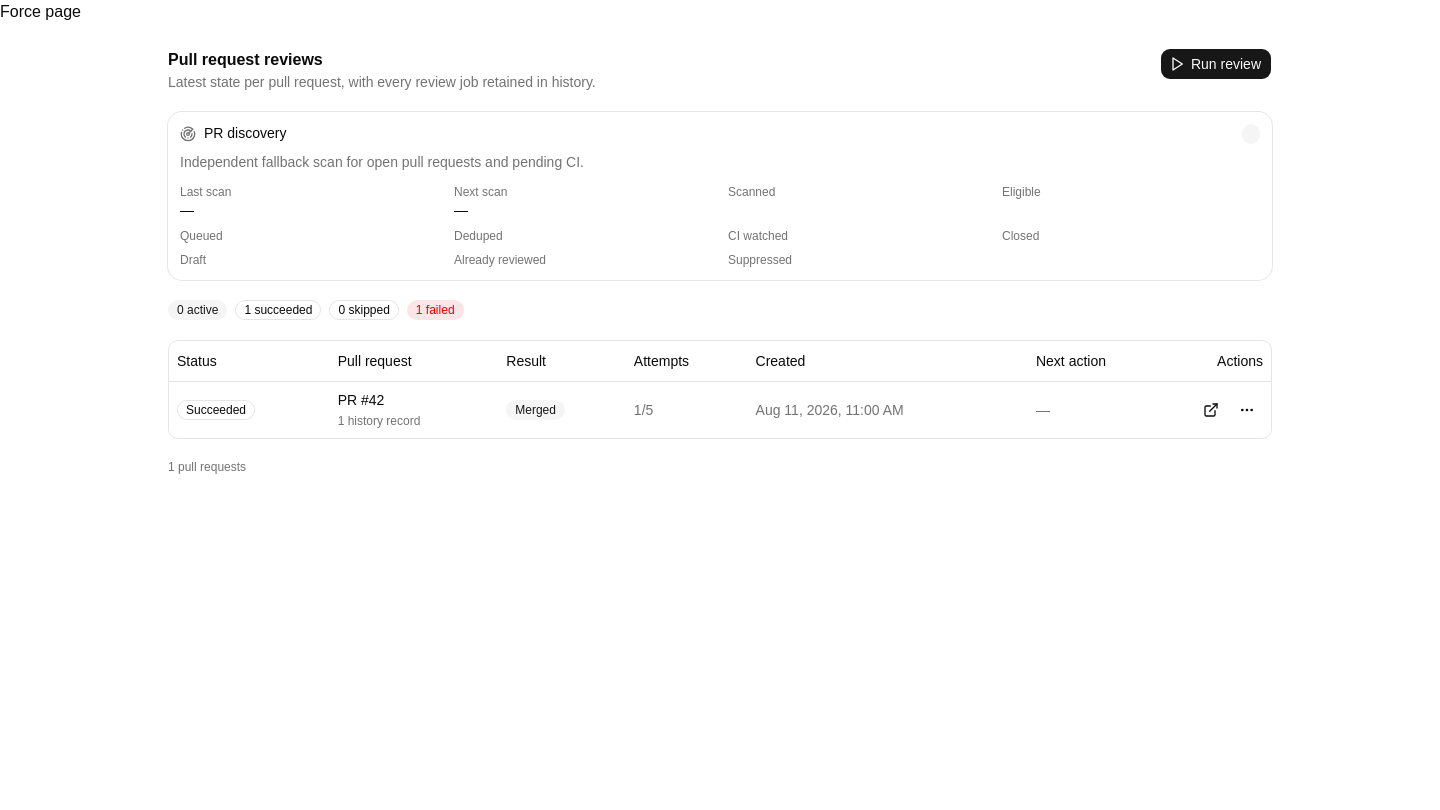
Test: pull request review pagination › shows merged as the aggregate result and removes re-review actions
The width and height of the screenshot is (1440, 810).
What coordinates should you click on to do the following:
click the button named "Actions for PR #42"
I would click on:
 (1247, 410)
Its box is [1231,394,1263,426].
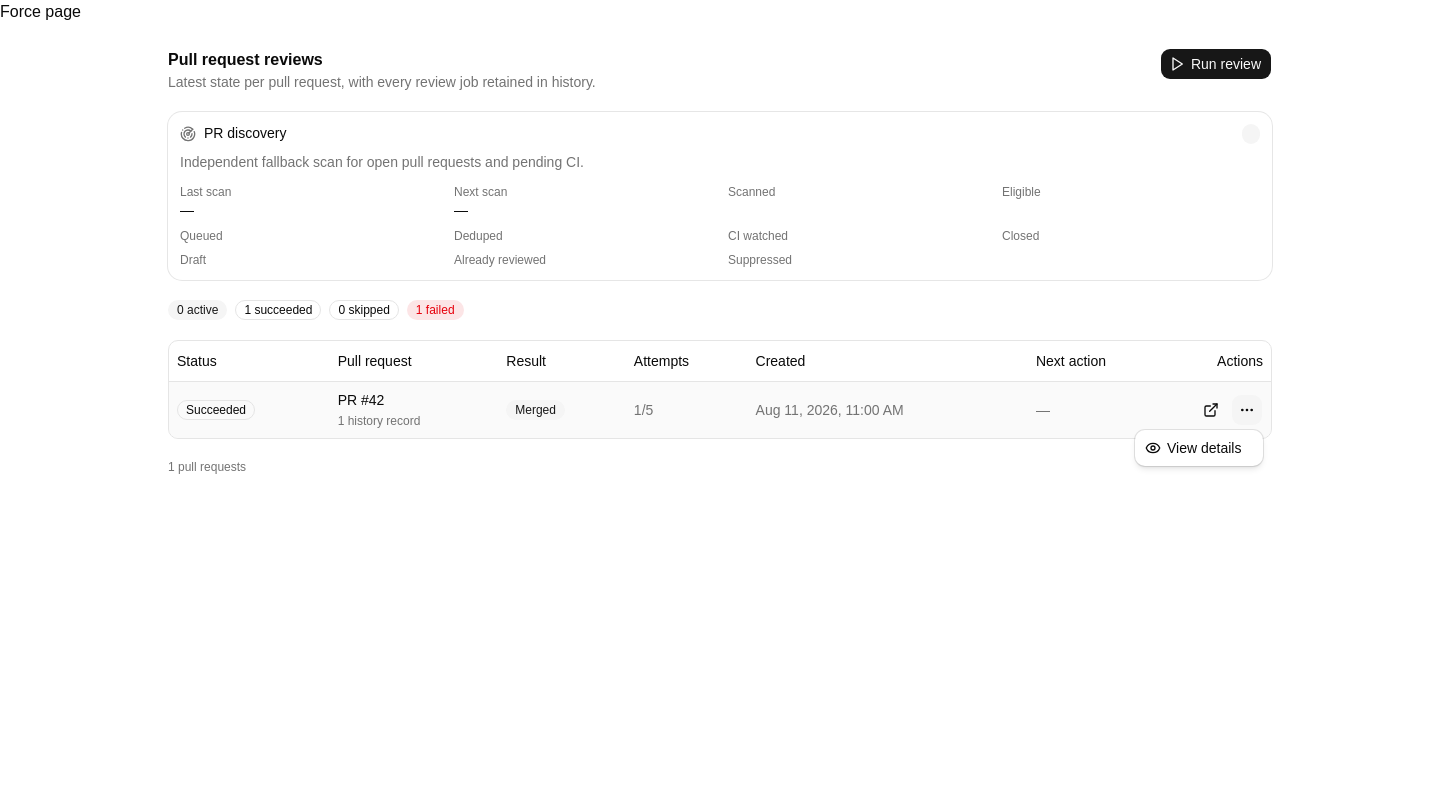
What coordinates should you click on to do the following:
click the menu item "View details"
I would click on:
 (1193, 448)
Its box is [1145,440,1242,456].
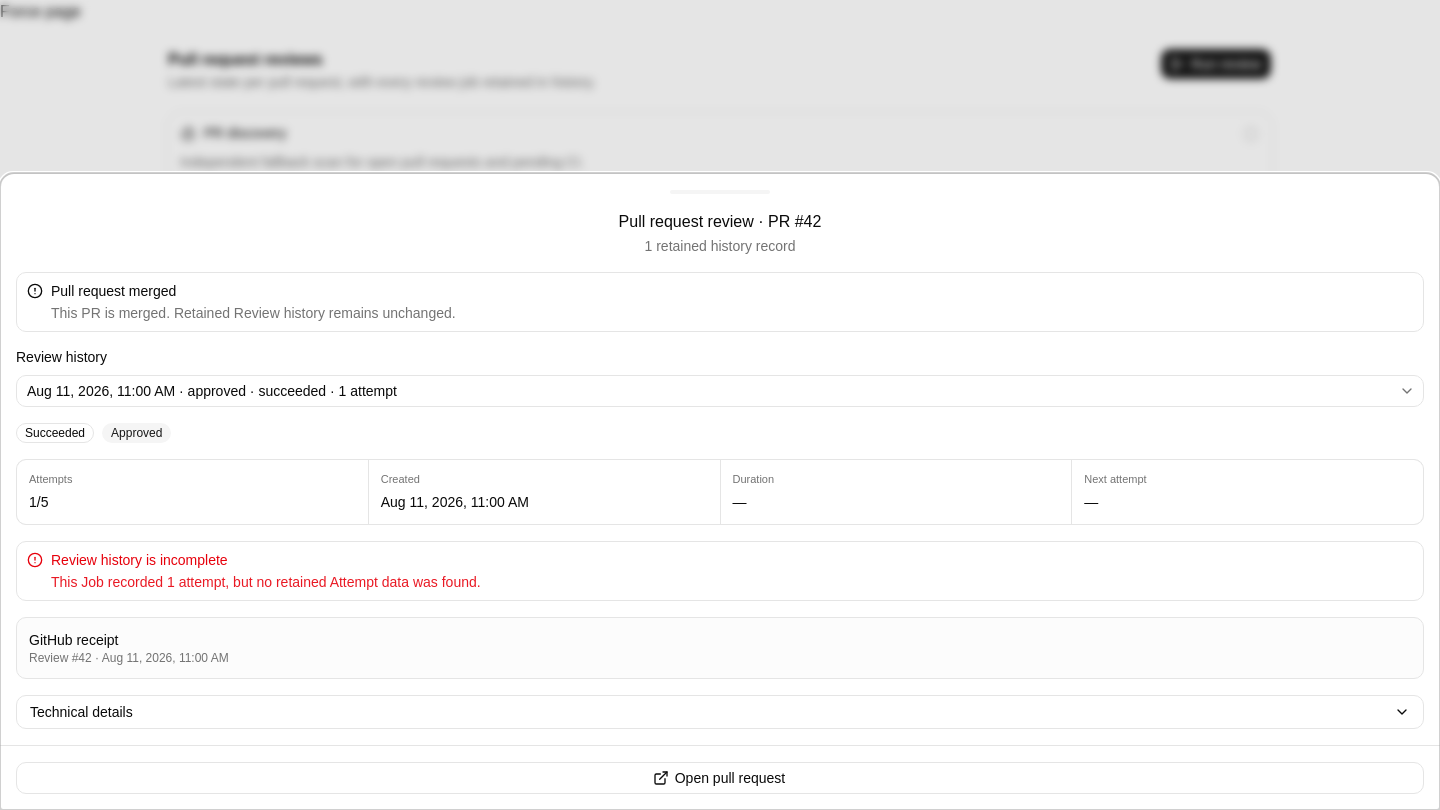
Now the text "Pull request merged" is shown, box [51,283,176,299]
Now the text "Approved" is shown, box [102,423,171,443]
